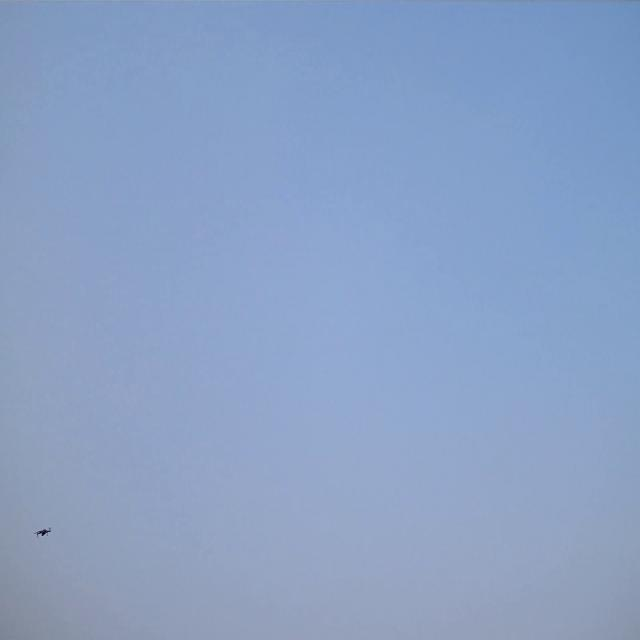drone: (34, 526, 51, 538)
